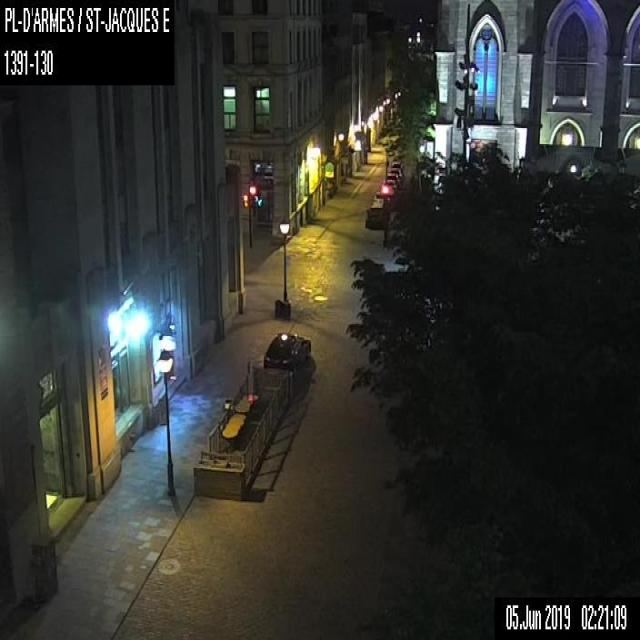vehicle: (262, 330, 311, 378), (365, 206, 386, 228), (380, 179, 396, 195), (373, 191, 389, 206), (386, 172, 399, 188), (389, 167, 402, 182), (391, 162, 404, 176)
